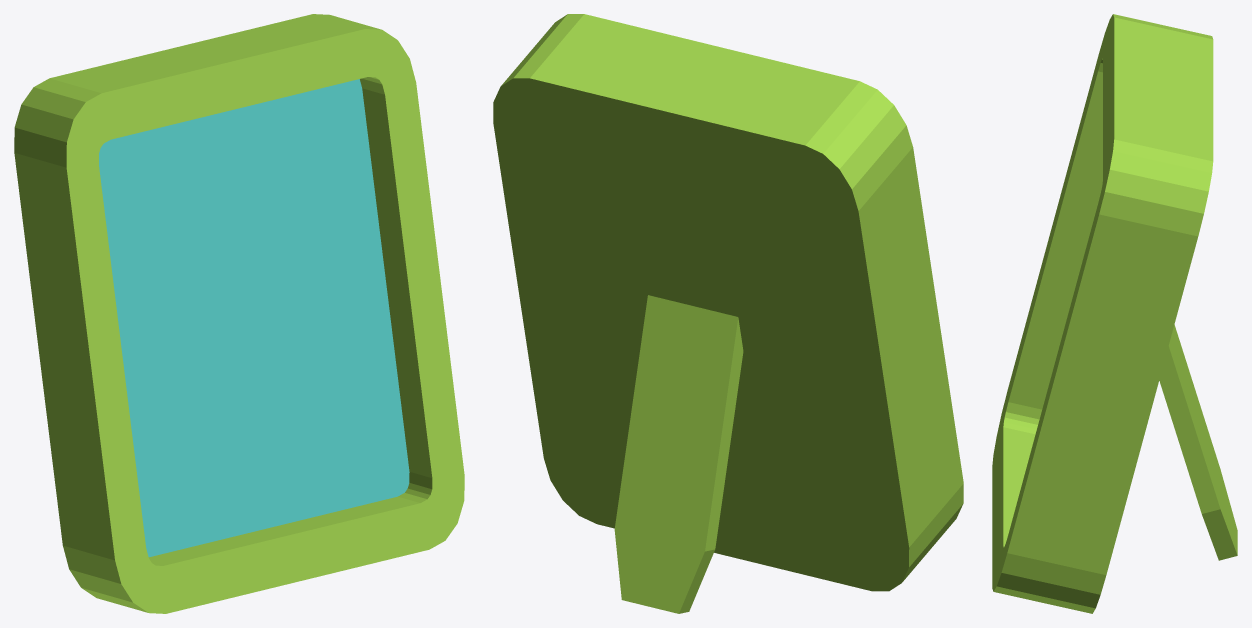
File: Big Frame.fbx
The picture shows the model from 3 angles, left to right: view 1: azimuth 30°, elevation 25°; view 2: azimuth 150°, elevation 25°; view 3: azimuth 270°, elevation 25°; orthographic projection. The views are drawn at different scales.
Visible parts, largest first — view 1: Big Frame; view 2: Big Frame; view 3: Big Frame.
Boxes of the visible parts, x1,y1,x2,y2 form: Big Frame: (14, 14, 464, 613); Big Frame: (493, 14, 963, 613); Big Frame: (992, 14, 1237, 613).
Size of the model in its own units: 184 by 250 by 118.
